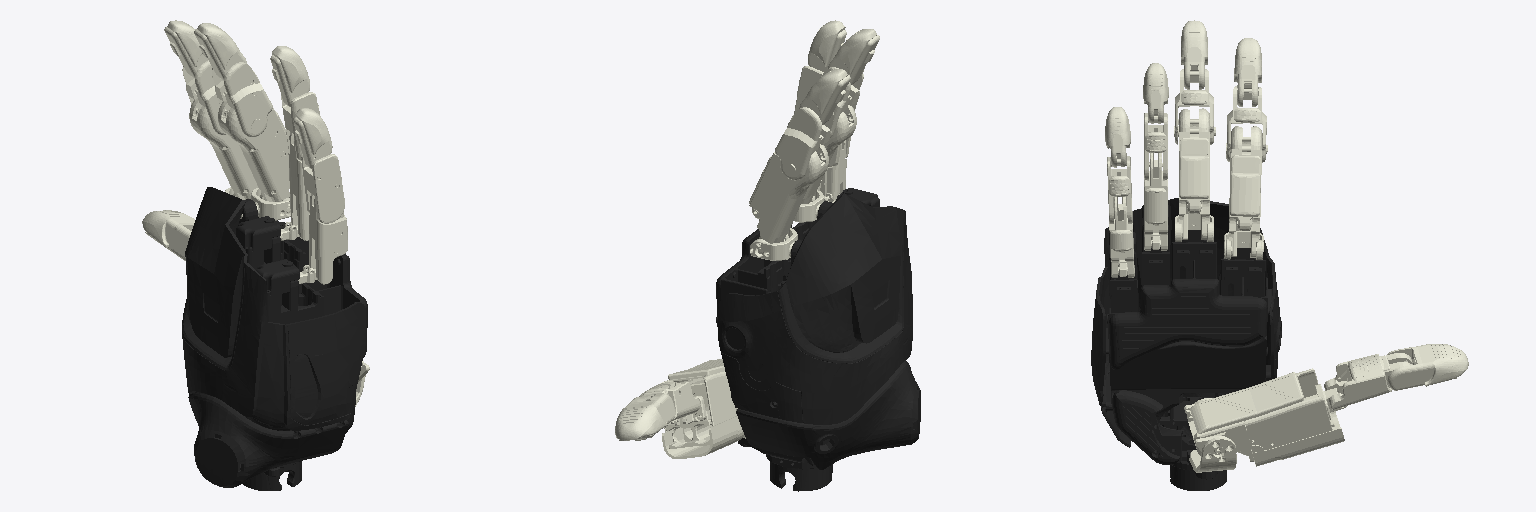
URDF robot description (liberhand_right):
<?xml version="1.0" ?>
<!-- =================================================================================== -->
<!-- |    This document was autogenerated by xacro from src/libertech_humanoid/libertech_humanoid_description/urdf/hand.xacro | -->
<!-- |    EDITING THIS FILE BY HAND IS NOT RECOMMENDED                                 | -->
<!-- =================================================================================== -->
<robot name="liberhand_right">
  <link name="world"/>
  <joint name="world_to_hand_right_palm_fixed" type="fixed">
    <origin rpy="0.0 0.0 0.0" xyz="0.0 0.0 0.0"/>
    <parent link="world"/>
    <child link="hand_right_palm"/>
  </joint>
  <link name="hand_right_palm">
    <inertial>
      <origin rpy="0 0 0" xyz="0 0 0"/>
      <mass value="0.91778"/>
      <inertia ixx="0.0018592" ixy="6.239E-05" ixz="-6.688E-05" iyy="0.0015814" iyz="3.163E-05" izz="0.00064901"/>
    </inertial>
    <visual>
      <origin rpy="0 0 0" xyz="0 0 0"/>
      <geometry>
        <mesh filename="../meshes/visual/palm.STL" scale="1 1 1"/>
      </geometry>
      <material name="hand_gray">
        <color rgba="0.2 0.2 0.2 1"/>
      </material>
    </visual>
    <collision>
      <origin rpy="0 0 0" xyz="0 0 0"/>
      <geometry>
        <mesh filename="../meshes/visual/palm.STL" scale="1 1 1"/>
      </geometry>
    </collision>
  </link>
  <link name="hand_right_f11">
    <inertial>
      <origin rpy="0 0 0" xyz="0 0.00069742 -0.0093798"/>
      <mass value="0.0033015"/>
      <inertia ixx="2E-07" ixy="0" ixz="0" iyy="3.1E-07" iyz="1E-08" izz="1.4E-07"/>
    </inertial>
    <visual>
      <origin rpy="0 0 0" xyz="0 0 0"/>
      <geometry>
        <mesh filename="../meshes/visual/f11.STL"/>
      </geometry>
      <material name="hand_white">
        <color rgba="0.913725 0.913725 0.847059 1"/>
      </material>
    </visual>
    <collision>
      <origin rpy="0 0 0" xyz="0 0 0"/>
      <geometry>
        <mesh filename="../meshes/visual/f11.STL"/>
      </geometry>
    </collision>
  </link>
  <joint name="hand_right_f11_joint" type="revolute">
    <origin rpy="1.5708 0.02618 1.5708" xyz="-0.022466 0.027654 0.043657"/>
    <parent link="hand_right_palm"/>
    <child link="hand_right_f11"/>
    <axis xyz="0 0 -1"/>
    <limit effort="10" lower="-0.4" upper="0.4" velocity="3.14"/>
    <dynamics damping="1.0" friction="0.01"/>
  </joint>
  <link name="hand_right_f12">
    <inertial>
      <origin rpy="0 0 0" xyz="0.026032 -0.0074611 2.268E-05"/>
      <mass value="0.058465"/>
      <inertia ixx="4.34E-06" ixy="-4.9E-06" ixz="5.3E-07" iyy="1.396E-05" iyz="-2.1E-07" izz="1.633E-05"/>
    </inertial>
    <visual>
      <origin rpy="0 0 0" xyz="0 0 0"/>
      <geometry>
        <mesh filename="../meshes/visual/f12.STL"/>
      </geometry>
      <material name="hand_white">
        <color rgba="0.913725 0.913725 0.847059 1"/>
      </material>
    </visual>
    <collision>
      <origin rpy="0 0 0" xyz="0 0 0"/>
      <geometry>
        <mesh filename="../meshes/visual/f12.STL"/>
      </geometry>
    </collision>
  </link>
  <joint name="hand_right_f12_joint" type="revolute">
    <origin rpy="1.5708 0 1.5708" xyz="0 0 0"/>
    <parent link="hand_right_f11"/>
    <child link="hand_right_f12"/>
    <axis xyz="0 0 1"/>
    <limit effort="10" lower="0" upper="2.09" velocity="3.14"/>
    <dynamics damping="1.0" friction="0.01"/>
  </joint>
  <link name="hand_right_f13">
    <inertial>
      <origin rpy="0 0 0" xyz="0.0090975 -0.0015069 0.0013415"/>
      <mass value="0.014574"/>
      <inertia ixx="9.3E-07" ixy="-3.2E-07" ixz="-1.8E-07" iyy="2.04E-06" iyz="6E-08" izz="1.81E-06"/>
    </inertial>
    <visual>
      <origin rpy="0 0 0" xyz="0 0 0"/>
      <geometry>
        <mesh filename="../meshes/visual/f13.STL"/>
      </geometry>
      <material name="hand_white">
        <color rgba="0.913725 0.913725 0.847059 1"/>
      </material>
    </visual>
    <collision>
      <origin rpy="0 0 0" xyz="0 0 0"/>
      <geometry>
        <mesh filename="../meshes/visual/f13.STL"/>
      </geometry>
    </collision>
  </link>
  <joint name="hand_right_f13_joint" type="revolute">
    <origin rpy="0 0 0" xyz="0.048883 -0.018383 0"/>
    <parent link="hand_right_f12"/>
    <child link="hand_right_f13"/>
    <axis xyz="0 0 1"/>
    <limit effort="10" lower="0" upper="1.744" velocity="3.14"/>
    <dynamics damping="1.0" friction="0.01"/>
  </joint>
  <link name="hand_right_f14">
    <inertial>
      <origin rpy="0 0 0" xyz="0.007749 -0.0041898 -0.00072552"/>
      <mass value="0.0055228"/>
      <inertia ixx="2.3E-07" ixy="-1.5E-07" ixz="2E-08" iyy="4E-07" iyz="-1E-08" izz="5E-07"/>
    </inertial>
    <visual>
      <origin rpy="0 0 0" xyz="0 0 0"/>
      <geometry>
        <mesh filename="../meshes/visual/f14.STL"/>
      </geometry>
      <material name="hand_white">
        <color rgba="0.913725 0.913725 0.847059 1"/>
      </material>
    </visual>
    <collision>
      <origin rpy="0 0 0" xyz="0 0 0"/>
      <geometry>
        <mesh filename="../meshes/visual/f14.STL"/>
      </geometry>
    </collision>
  </link>
  <joint name="hand_right_f14_joint" type="revolute">
    <origin rpy="0 0 0" xyz="0.0284 -0.0092477 0"/>
    <parent link="hand_right_f13"/>
    <child link="hand_right_f14"/>
    <axis xyz="0 0 1"/>
    <limit effort="10" lower="0" upper="1.744" velocity="3.14"/>
    <dynamics damping="1.0" friction="0.01"/>
  </joint>
  <link name="hand_right_f14_end">
        </link>
  <joint name="hand_right_f14_end_joint" type="fixed">
    <origin rpy="0 0 0" xyz="0.019695 -0.0034802 0"/>
    <parent link="hand_right_f14"/>
    <child link="hand_right_f14_end"/>
    <axis xyz="0 0 0"/>
  </joint>
  <link name="hand_right_f21">
    <inertial>
      <origin rpy="0 0 0" xyz="0 0.00069742 -0.0093798"/>
      <mass value="0.0033015"/>
      <inertia ixx="2E-07" ixy="0" ixz="0" iyy="3.1E-07" iyz="1E-08" izz="1.4E-07"/>
    </inertial>
    <visual>
      <origin rpy="0 0 0" xyz="0 0 0"/>
      <geometry>
        <mesh filename="../meshes/visual/f21.STL"/>
      </geometry>
      <material name="hand_white">
        <color rgba="0.913725 0.913725 0.847059 1"/>
      </material>
    </visual>
    <collision>
      <origin rpy="0 0 0" xyz="0 0 0"/>
      <geometry>
        <mesh filename="../meshes/visual/f21.STL"/>
      </geometry>
    </collision>
  </link>
  <joint name="hand_right_f21_joint" type="revolute">
    <origin rpy="1.5708 0 1.5708" xyz="-0.022466 0.0022583 0.053546"/>
    <parent link="hand_right_palm"/>
    <child link="hand_right_f21"/>
    <axis xyz="0 0 -1"/>
    <limit effort="10" lower="-0.4" upper="0.4" velocity="3.14"/>
    <dynamics damping="1.0" friction="0.01"/>
  </joint>
  <link name="hand_right_f22">
    <inertial>
      <origin rpy="0 0 0" xyz="0.026032 -0.0074611 2.268E-05"/>
      <mass value="0.058465"/>
      <inertia ixx="4.34E-06" ixy="-4.9E-06" ixz="5.3E-07" iyy="1.396E-05" iyz="-2.1E-07" izz="1.633E-05"/>
    </inertial>
    <visual>
      <origin rpy="0 0 0" xyz="0 0 0"/>
      <geometry>
        <mesh filename="../meshes/visual/f22.STL"/>
      </geometry>
      <material name="hand_white">
        <color rgba="0.913725 0.913725 0.847059 1"/>
      </material>
    </visual>
    <collision>
      <origin rpy="0 0 0" xyz="0 0 0"/>
      <geometry>
        <mesh filename="../meshes/visual/f22.STL"/>
      </geometry>
    </collision>
  </link>
  <joint name="hand_right_f22_joint" type="revolute">
    <origin rpy="1.5708 0 1.5708" xyz="0 0 0"/>
    <parent link="hand_right_f21"/>
    <child link="hand_right_f22"/>
    <axis xyz="0 0 1"/>
    <limit effort="10" lower="0" upper="2.09" velocity="3.14"/>
    <dynamics damping="1.0" friction="0.01"/>
  </joint>
  <link name="hand_right_f23">
    <inertial>
      <origin rpy="0 0 0" xyz="0.0090975 -0.0015069 0.0013415"/>
      <mass value="0.014574"/>
      <inertia ixx="9.3E-07" ixy="-3.2E-07" ixz="-1.8E-07" iyy="2.04E-06" iyz="6E-08" izz="1.81E-06"/>
    </inertial>
    <visual>
      <origin rpy="0 0 0" xyz="0 0 0"/>
      <geometry>
        <mesh filename="../meshes/visual/f23.STL"/>
      </geometry>
      <material name="hand_white">
        <color rgba="0.913725 0.913725 0.847059 1"/>
      </material>
    </visual>
    <collision>
      <origin rpy="0 0 0" xyz="0 0 0"/>
      <geometry>
        <mesh filename="../meshes/visual/f23.STL"/>
      </geometry>
    </collision>
  </link>
  <joint name="hand_right_f23_joint" type="revolute">
    <origin rpy="0 0 0" xyz="0.048883 -0.018383 0"/>
    <parent link="hand_right_f22"/>
    <child link="hand_right_f23"/>
    <axis xyz="0 0 1"/>
    <limit effort="10" lower="0" upper="1.744" velocity="3.14"/>
    <dynamics damping="1.0" friction="0.01"/>
  </joint>
  <link name="hand_right_f24">
    <inertial>
      <origin rpy="0 0 0" xyz="0.007749 -0.0041898 -0.00072552"/>
      <mass value="0.0055228"/>
      <inertia ixx="2.3E-07" ixy="-1.5E-07" ixz="2E-08" iyy="4E-07" iyz="-1E-08" izz="5E-07"/>
    </inertial>
    <visual>
      <origin rpy="0 0 0" xyz="0 0 0"/>
      <geometry>
        <mesh filename="../meshes/visual/f24.STL"/>
      </geometry>
      <material name="hand_white">
        <color rgba="0.913725 0.913725 0.847059 1"/>
      </material>
    </visual>
    <collision>
      <origin rpy="0 0 0" xyz="0 0 0"/>
      <geometry>
        <mesh filename="../meshes/visual/f24.STL"/>
      </geometry>
    </collision>
  </link>
  <joint name="hand_right_f24_joint" type="revolute">
    <origin rpy="0 0 0" xyz="0.0284 -0.0092477 0"/>
    <parent link="hand_right_f23"/>
    <child link="hand_right_f24"/>
    <axis xyz="0 0 1"/>
    <limit effort="10" lower="0" upper="1.744" velocity="3.14"/>
    <dynamics damping="1.0" friction="0.01"/>
  </joint>
  <link name="hand_right_f24_end">
        </link>
  <joint name="hand_right_f24_end_joint" type="fixed">
    <origin rpy="0 0 0" xyz="0.019695 -0.0034802 0"/>
    <parent link="hand_right_f24"/>
    <child link="hand_right_f24_end"/>
    <axis xyz="0 0 0"/>
  </joint>
  <link name="hand_right_f31">
    <inertial>
      <origin rpy="0 0 0" xyz="-6.964E-05 -0.00044078 -0.012759"/>
      <mass value="0.0085521"/>
      <inertia ixx="7.6E-07" ixy="0" ixz="0" iyy="7.6E-07" iyz="4E-08" izz="1.3E-07"/>
    </inertial>
    <visual>
      <origin rpy="0 0 0" xyz="0 0 0"/>
      <geometry>
        <mesh filename="../meshes/visual/f31.STL"/>
      </geometry>
      <material name="hand_white">
        <color rgba="0.913725 0.913725 0.847059 1"/>
      </material>
    </visual>
    <collision>
      <origin rpy="0 0 0" xyz="0 0 0"/>
      <geometry>
        <mesh filename="../meshes/visual/f31.STL"/>
      </geometry>
    </collision>
  </link>
  <joint name="hand_right_f31_joint" type="revolute">
    <origin rpy="1.5708 0 1.5708" xyz="-0.021466 -0.017542 0.047798"/>
    <parent link="hand_right_palm"/>
    <child link="hand_right_f31"/>
    <axis xyz="0 0 -1"/>
    <limit effort="10" lower="-0.4" upper="0.4" velocity="3.14"/>
    <dynamics damping="1.0" friction="0.01"/>
  </joint>
  <link name="hand_right_f32">
    <inertial>
      <origin rpy="0 0 0" xyz="0.025132 0.0031733 -8.727E-05"/>
      <mass value="0.01244"/>
      <inertia ixx="4.5E-07" ixy="-1.2E-07" ixz="0" iyy="2.29E-06" iyz="0" izz="2.41E-06"/>
    </inertial>
    <visual>
      <origin rpy="0 0 0" xyz="0 0 0"/>
      <geometry>
        <mesh filename="../meshes/visual/f32.STL"/>
      </geometry>
      <material name="hand_white">
        <color rgba="0.913725 0.913725 0.847059 1"/>
      </material>
    </visual>
    <collision>
      <origin rpy="0 0 0" xyz="0 0 0"/>
      <geometry>
        <mesh filename="../meshes/visual/f32.STL"/>
      </geometry>
    </collision>
  </link>
  <joint name="hand_right_f32_joint" type="revolute">
    <origin rpy="1.5708 0 1.5708" xyz="0 0 0"/>
    <parent link="hand_right_f31"/>
    <child link="hand_right_f32"/>
    <axis xyz="0 0 1"/>
    <limit effort="10" lower="0" upper="1.744" velocity="3.14"/>
    <dynamics damping="1.0" friction="0.01"/>
  </joint>
  <link name="hand_right_f33">
    <inertial>
      <origin rpy="0 0 0" xyz="0.010032 -0.00058707 -9.093E-05"/>
      <mass value="0.0071009"/>
      <inertia ixx="2.8E-07" ixy="-8E-08" ixz="0" iyy="6.9E-07" iyz="0" izz="7E-07"/>
    </inertial>
    <visual>
      <origin rpy="0 0 0" xyz="0 0 0"/>
      <geometry>
        <mesh filename="../meshes/visual/f33.STL"/>
      </geometry>
      <material name="hand_white">
        <color rgba="0.913725 0.913725 0.847059 1"/>
      </material>
    </visual>
    <collision>
      <origin rpy="0 0 0" xyz="0 0 0"/>
      <geometry>
        <mesh filename="../meshes/visual/f33.STL"/>
      </geometry>
    </collision>
  </link>
  <joint name="hand_right_f33_joint" type="revolute">
    <origin rpy="0 0 0" xyz="0.044995 0.00066781 0"/>
    <parent link="hand_right_f32"/>
    <child link="hand_right_f33"/>
    <axis xyz="0 0 1"/>
    <limit effort="10" lower="0" upper="1.744" velocity="3.14"/>
    <dynamics damping="1.0" friction="0.01"/>
  </joint>
  <link name="hand_right_f34">
    <inertial>
      <origin rpy="0 0 0" xyz="0.010482 -0.0030354 -1.03E-05"/>
      <mass value="0.0049513"/>
      <inertia ixx="1.3E-07" ixy="-6E-08" ixz="0" iyy="3.2E-07" iyz="0" izz="3.7E-07"/>
    </inertial>
    <visual>
      <origin rpy="0 0 0" xyz="0 0 0"/>
      <geometry>
        <mesh filename="../meshes/visual/f34.STL"/>
      </geometry>
      <material name="hand_white">
        <color rgba="0.913725 0.913725 0.847059 1"/>
      </material>
    </visual>
    <collision>
      <origin rpy="0 0 0" xyz="0 0 0"/>
      <geometry>
        <mesh filename="../meshes/visual/f34.STL"/>
      </geometry>
    </collision>
  </link>
  <joint name="hand_right_f34_joint" type="revolute">
    <origin rpy="0 0 0" xyz="0.024601 -0.0044465 0"/>
    <parent link="hand_right_f33"/>
    <child link="hand_right_f34"/>
    <axis xyz="0 0 1"/>
    <limit effort="10" lower="0" upper="1.744" velocity="3.14"/>
    <dynamics damping="1.0" friction="0.01"/>
  </joint>
  <link name="hand_right_f34_end">
        </link>
  <joint name="hand_right_f34_end_joint" type="fixed">
    <origin rpy="0 0 0" xyz="0.021134 0.0011803 0"/>
    <parent link="hand_right_f34"/>
    <child link="hand_right_f34_end"/>
    <axis xyz="0 0 0"/>
  </joint>
  <link name="hand_right_f41">
    <inertial>
      <origin rpy="0 0 0" xyz="-6.964E-05 -0.00044078 -0.012759"/>
      <mass value="0.0085521"/>
      <inertia ixx="7.6E-07" ixy="0" ixz="0" iyy="7.6E-07" iyz="4E-08" izz="1.3E-07"/>
    </inertial>
    <visual>
      <origin rpy="0 0 0" xyz="0 0 0"/>
      <geometry>
        <mesh filename="../meshes/visual/f41.STL"/>
      </geometry>
      <material name="hand_white">
        <color rgba="0.913725 0.913725 0.847059 1"/>
      </material>
    </visual>
    <collision>
      <origin rpy="0 0 0" xyz="0 0 0"/>
      <geometry>
        <mesh filename="../meshes/visual/f41.STL"/>
      </geometry>
    </collision>
  </link>
  <joint name="hand_right_f41_joint" type="revolute">
    <origin rpy="1.5708 -0.034907 1.5708" xyz="-0.021466 -0.034458 0.032384"/>
    <parent link="hand_right_palm"/>
    <child link="hand_right_f41"/>
    <axis xyz="0 0 -1"/>
    <limit effort="10" lower="-0.4" upper="0.4" velocity="3.14"/>
    <dynamics damping="1.0" friction="0.01"/>
  </joint>
  <link name="hand_right_f42">
    <inertial>
      <origin rpy="0 0 0" xyz="0.021044 0.0035949 -7.944E-05"/>
      <mass value="0.0096409"/>
      <inertia ixx="3.5E-07" ixy="-3E-08" ixz="0" iyy="1.24E-06" iyz="0" izz="1.35E-06"/>
    </inertial>
    <visual>
      <origin rpy="0 0 0" xyz="0 0 0"/>
      <geometry>
        <mesh filename="../meshes/visual/f42.STL"/>
      </geometry>
      <material name="hand_white">
        <color rgba="0.913725 0.913725 0.847059 1"/>
      </material>
    </visual>
    <collision>
      <origin rpy="0 0 0" xyz="0 0 0"/>
      <geometry>
        <mesh filename="../meshes/visual/f42.STL"/>
      </geometry>
    </collision>
  </link>
  <joint name="hand_right_f42_joint" type="revolute">
    <origin rpy="1.5708 0 1.5708" xyz="0 0 0"/>
    <parent link="hand_right_f41"/>
    <child link="hand_right_f42"/>
    <axis xyz="0 0 1"/>
    <limit effort="10" lower="0" upper="1.6" velocity="3.14"/>
    <dynamics damping="1.0" friction="0.01"/>
  </joint>
  <link name="hand_right_f43">
    <inertial>
      <origin rpy="0 0 0" xyz="0.010032 -0.00058707 -9.093E-05"/>
      <mass value="0.0071009"/>
      <inertia ixx="2.8E-07" ixy="-8E-08" ixz="0" iyy="6.9E-07" iyz="0" izz="7E-07"/>
    </inertial>
    <visual>
      <origin rpy="0 0 0" xyz="0 0 0"/>
      <geometry>
        <mesh filename="../meshes/visual/f43.STL"/>
      </geometry>
      <material name="hand_white">
        <color rgba="0.913725 0.913725 0.847059 1"/>
      </material>
    </visual>
    <collision>
      <origin rpy="0 0 0" xyz="0 0 0"/>
      <geometry>
        <mesh filename="../meshes/visual/f43.STL"/>
      </geometry>
    </collision>
  </link>
  <joint name="hand_right_f43_joint" type="revolute">
    <origin rpy="0 0 0" xyz="0.035975 0.001338 0"/>
    <parent link="hand_right_f42"/>
    <child link="hand_right_f43"/>
    <axis xyz="0 0 1"/>
    <limit effort="10" lower="0" upper="1.744" velocity="3.14"/>
    <dynamics damping="1.0" friction="0.01"/>
  </joint>
  <link name="hand_right_f44">
    <inertial>
      <origin rpy="0 0 0" xyz="0.010482 -0.0030354 -1.03E-05"/>
      <mass value="0.0049513"/>
      <inertia ixx="1.3E-07" ixy="-6E-08" ixz="0" iyy="3.2E-07" iyz="0" izz="3.7E-07"/>
    </inertial>
    <visual>
      <origin rpy="0 0 0" xyz="0 0 0"/>
      <geometry>
        <mesh filename="../meshes/visual/f44.STL"/>
      </geometry>
      <material name="hand_white">
        <color rgba="0.913725 0.913725 0.847059 1"/>
      </material>
    </visual>
    <collision>
      <origin rpy="0 0 0" xyz="0 0 0"/>
      <geometry>
        <mesh filename="../meshes/visual/f44.STL"/>
      </geometry>
    </collision>
  </link>
  <joint name="hand_right_f44_joint" type="revolute">
    <origin rpy="0 0 0" xyz="0.024621 -0.004339 0"/>
    <parent link="hand_right_f43"/>
    <child link="hand_right_f44"/>
    <axis xyz="0 0 1"/>
    <limit effort="10" lower="0" upper="1.744" velocity="3.14"/>
    <dynamics damping="1.0" friction="0.01"/>
  </joint>
  <link name="hand_right_f44_end">
        </link>
  <joint name="hand_right_f44_end_joint" type="fixed">
    <origin rpy="0 0 0" xyz="0.021123 0.0013734 0"/>
    <parent link="hand_right_f44"/>
    <child link="hand_right_f44_end"/>
    <axis xyz="0 0 0"/>
  </joint>
  <link name="hand_right_f51">
    <inertial>
      <origin rpy="0 0 0" xyz="0.0053991 0.0016936 0.01157"/>
      <mass value="0.022542"/>
      <inertia ixx="3.06E-06" ixy="4.2E-07" ixz="3.3E-07" iyy="5.17E-06" iyz="1E-08" izz="3.39E-06"/>
    </inertial>
    <visual>
      <origin rpy="0 0 0" xyz="0 0 0"/>
      <geometry>
        <mesh filename="../meshes/visual/f51.STL" scale="1 1 1"/>
      </geometry>
      <material name="hand_white">
        <color rgba="0.913725 0.913725 0.847059 1"/>
      </material>
    </visual>
    <collision>
      <origin rpy="0 0 0" xyz="0 0 0"/>
      <geometry>
        <mesh filename="../meshes/visual/f51.STL" scale="1 1 1"/>
      </geometry>
    </collision>
  </link>
  <joint name="hand_right_f51_joint" type="revolute">
    <origin rpy="0 0 0" xyz="-0.00049657 0.0084524 -0.066754"/>
    <parent link="hand_right_palm"/>
    <child link="hand_right_f51"/>
    <axis xyz="0 0 -1"/>
    <limit effort="10" lower="0" upper="1.9" velocity="3.14"/>
    <dynamics damping="1.0" friction="0.01"/>
  </joint>
  <link name="hand_right_f52">
    <inertial>
      <origin rpy="0 0 0" xyz="0.03317 -0.0064258 -0.00083733"/>
      <mass value="0.12909"/>
      <inertia ixx="1.628E-05" ixy="-6.22E-06" ixz="-3.01E-06" iyy="6.413E-05" iyz="1.13E-06" izz="6.867E-05"/>
    </inertial>
    <visual>
      <origin rpy="0 0 0" xyz="0 0 0"/>
      <geometry>
        <mesh filename="../meshes/visual/f52.STL" scale="1 1 1"/>
      </geometry>
      <material name="hand_white">
        <color rgba="0.913725 0.913725 0.847059 1"/>
      </material>
    </visual>
    <collision>
      <origin rpy="0 0 0" xyz="0 0 0"/>
      <geometry>
        <mesh filename="../meshes/visual/f52.STL" scale="1 1 1"/>
      </geometry>
    </collision>
  </link>
  <joint name="hand_right_f52_joint" type="revolute">
    <origin rpy="1.8447 -0.25085 1.7172" xyz="0.0092399 0.0031582 0.022073"/>
    <parent link="hand_right_f51"/>
    <child link="hand_right_f52"/>
    <axis xyz="0 0 1"/>
    <limit effort="10" lower="0" upper="1.332" velocity="3.14"/>
    <dynamics damping="1.0" friction="0.01"/>
  </joint>
  <link name="hand_right_f53">
    <inertial>
      <origin rpy="0 0 0" xyz="0.021453 0.0041043 -5.93E-06"/>
      <mass value="0.011849"/>
      <inertia ixx="6.6E-07" ixy="-1E-08" ixz="-1E-08" iyy="1.94E-06" iyz="0" izz="1.88E-06"/>
    </inertial>
    <visual>
      <origin rpy="0 0 0" xyz="0 0 0"/>
      <geometry>
        <mesh filename="../meshes/visual/f53.STL"/>
      </geometry>
      <material name="hand_white">
        <color rgba="0.913725 0.913725 0.847059 1"/>
      </material>
    </visual>
    <collision>
      <origin rpy="0 0 0" xyz="0 0 0"/>
      <geometry>
        <mesh filename="../meshes/visual/f53.STL"/>
      </geometry>
    </collision>
  </link>
  <joint name="hand_right_f53_joint" type="revolute">
    <origin rpy="0 0 0" xyz="0.0654 0 0"/>
    <parent link="hand_right_f52"/>
    <child link="hand_right_f53"/>
    <axis xyz="0 0 1"/>
    <limit effort="10" lower="0" upper="1.744" velocity="3.14"/>
    <dynamics damping="1.0" friction="0.01"/>
  </joint>
  <link name="hand_right_f54">
    <inertial>
      <origin rpy="0 0 0" xyz="0.013824 -0.0017677 -5.567E-05"/>
      <mass value="0.010348"/>
      <inertia ixx="5.5E-07" ixy="-1.5E-07" ixz="0" iyy="1.35E-06" iyz="0" izz="1.17E-06"/>
    </inertial>
    <visual>
      <origin rpy="0 0 0" xyz="0 0 0"/>
      <geometry>
        <mesh filename="../meshes/visual/f54.STL"/>
      </geometry>
      <material name="hand_white">
        <color rgba="0.913725 0.913725 0.847059 1"/>
      </material>
    </visual>
    <collision>
      <origin rpy="0 0 0" xyz="0 0 0"/>
      <geometry>
        <mesh filename="../meshes/visual/f54.STL"/>
      </geometry>
    </collision>
  </link>
  <joint name="hand_right_f54_joint" type="revolute">
    <origin rpy="0 0 0" xyz="0.035837 0.0034221 0"/>
    <parent link="hand_right_f53"/>
    <child link="hand_right_f54"/>
    <axis xyz="0 0 1"/>
    <limit effort="10" lower="0" upper="1.744" velocity="3.14"/>
    <dynamics damping="1.0" friction="0.01"/>
  </joint>
  <link name="hand_right_f54_end">
        </link>
  <joint name="hand_right_f54_end_joint" type="fixed">
    <origin rpy="0 0 0" xyz="0.024 0.0044004 0"/>
    <parent link="hand_right_f54"/>
    <child link="hand_right_f54_end"/>
    <axis xyz="0 0 0"/>
  </joint>
  <link name="hand_right_wrist">
        </link>
  <joint name="hand_right_wrist_joint" type="fixed">
    <origin rpy="1.570796326 0.0 1.570796326" xyz="-0.025962 0.005739 -0.069754"/>
    <parent link="hand_right_palm"/>
    <child link="hand_right_wrist"/>
  </joint>
</robot>

--- What the picture shows (computed from the rendered views, not written in the file) ---
3 views of the same robot in one strip: view 1: azimuth 30°, elevation 25°; view 2: azimuth 150°, elevation 25°; view 3: azimuth 270°, elevation 25° (orthographic).
Robot: liberhand_right — 28 links, 27 joints (20 revolute, 7 fixed); root link world; default pose: all joints at 0.
Links seen in each view (by area): view 1: hand_right_palm, hand_right_f22, hand_right_f23, hand_right_f12, hand_right_f43, hand_right_f42, hand_right_f54, hand_right_f34, hand_right_f24, hand_right_f44, hand_right_f32, hand_right_f14 (+3 smaller); view 2: hand_right_palm, hand_right_f52, hand_right_f12, hand_right_f13, hand_right_f54, hand_right_f14, hand_right_f24, hand_right_f34, hand_right_f53, hand_right_f22, hand_right_f11, hand_right_f42 (+2 smaller); view 3: hand_right_palm, hand_right_f52, hand_right_f12, hand_right_f22, hand_right_f53, hand_right_f54, hand_right_f32, hand_right_f14, hand_right_f24, hand_right_f51, hand_right_f42, hand_right_f13 (+6 smaller).
Boxes of the visible links, x1,y1,x2,y2 form: hand_right_palm: (182,187,367,490); hand_right_f22: (218,100,290,213); hand_right_f23: (212,62,272,136); hand_right_f12: (189,98,257,199); hand_right_f43: (301,154,344,223); hand_right_f42: (309,193,347,284); hand_right_f54: (142,210,194,260); hand_right_f34: (270,46,309,106); hand_right_f24: (194,23,246,80); hand_right_f44: (293,108,332,168); hand_right_f32: (288,132,309,240); hand_right_f14: (164,20,207,78); hand_right_palm: (716,188,920,491); hand_right_f52: (660,359,744,458); hand_right_f12: (749,144,828,254); hand_right_f13: (775,107,833,180); hand_right_f54: (615,394,674,440); hand_right_f14: (799,69,850,124); hand_right_f24: (828,29,879,84); hand_right_f34: (808,20,846,71); hand_right_f53: (637,382,700,420); hand_right_f22: (801,104,856,203); hand_right_f11: (750,228,797,260); hand_right_f42: (827,140,846,200); hand_right_palm: (1091,198,1281,490); hand_right_f52: (1187,368,1346,466); hand_right_f12: (1229,126,1261,257); hand_right_f22: (1178,108,1209,239); hand_right_f53: (1324,353,1412,409); hand_right_f54: (1387,344,1468,390); hand_right_f32: (1144,153,1167,250); hand_right_f14: (1234,38,1261,106); hand_right_f24: (1181,20,1207,89); hand_right_f51: (1184,398,1236,472); hand_right_f42: (1109,197,1134,277); hand_right_f13: (1226,86,1267,162).
Size in the robot's own frame: 0.1058 by 0.194 by 0.2431 metres.
21 mesh visuals loaded from 21 distinct referenced files (21 binary STL).
